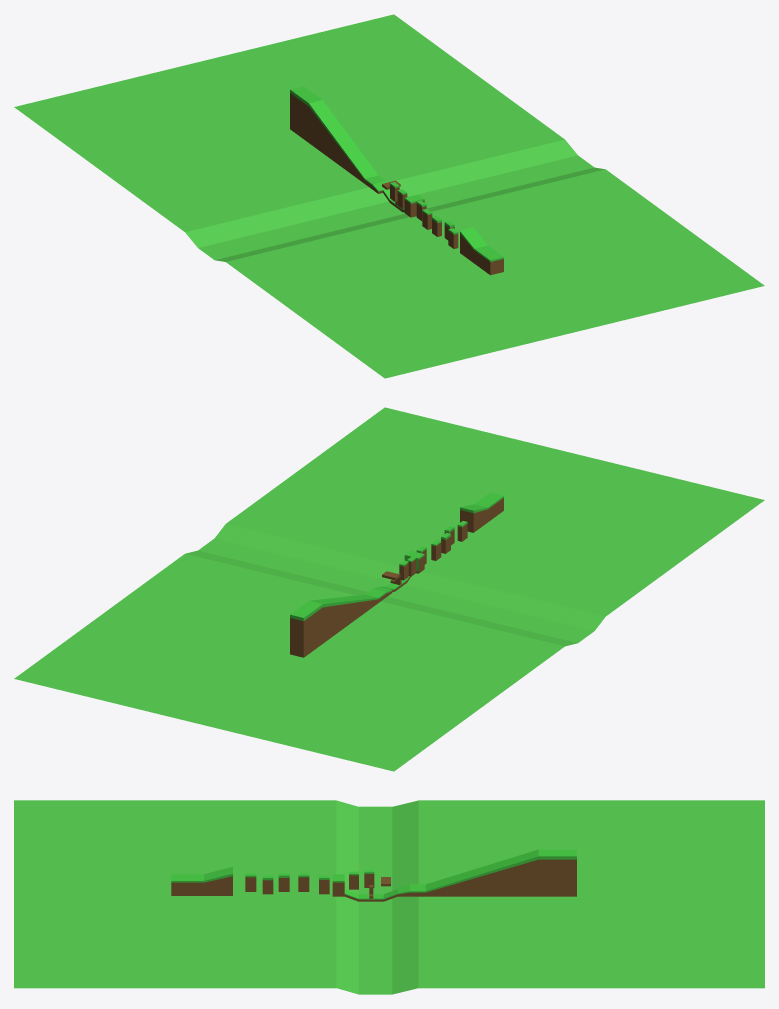
File: Map4.fbx
The picture shows the model from 3 angles, top to bottom: view 1: azimuth 30°, elevation 25°; view 2: azimuth 150°, elevation 25°; view 3: azimuth 270°, elevation 25°; orthographic projection.
Parts seen in each view (by area): view 1: Plane, Cube; view 2: Plane, Cube; view 3: Plane, Cube.
Part boxes in pixels (x1,y1,x2,y2): Plane: (14,14,764,378); Cube: (290,86,503,275); Plane: (14,407,764,771); Cube: (290,492,503,657); Plane: (14,800,764,994); Cube: (171,849,576,901).
Size of the model in its own units: 22103 by 2624 by 37362.
